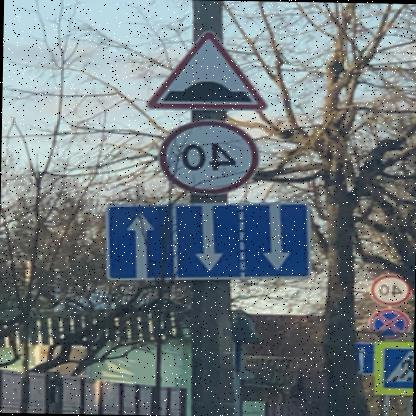crosswalk: (382, 346, 413, 390)
speedlimit: (161, 118, 263, 193), (374, 272, 412, 300)
